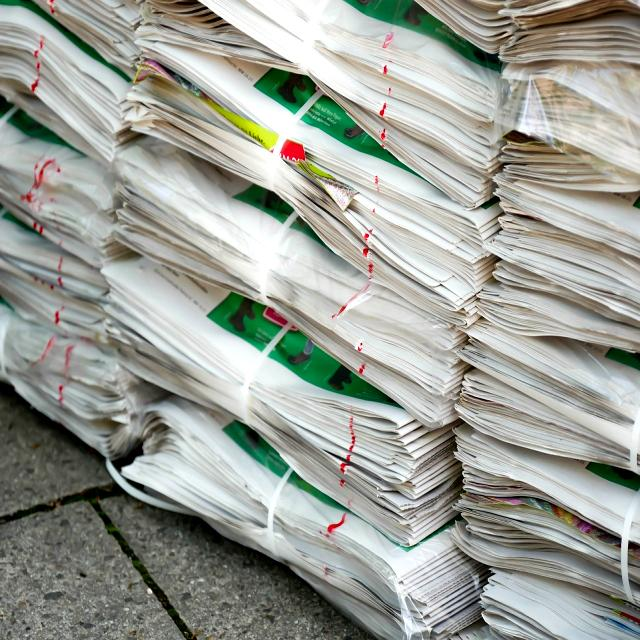Paper: (134, 2, 474, 640), (472, 3, 640, 639), (0, 4, 128, 456)
